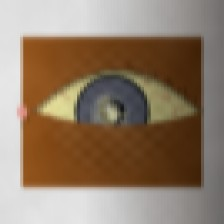corneal_ulcer: (89, 97, 129, 129)
